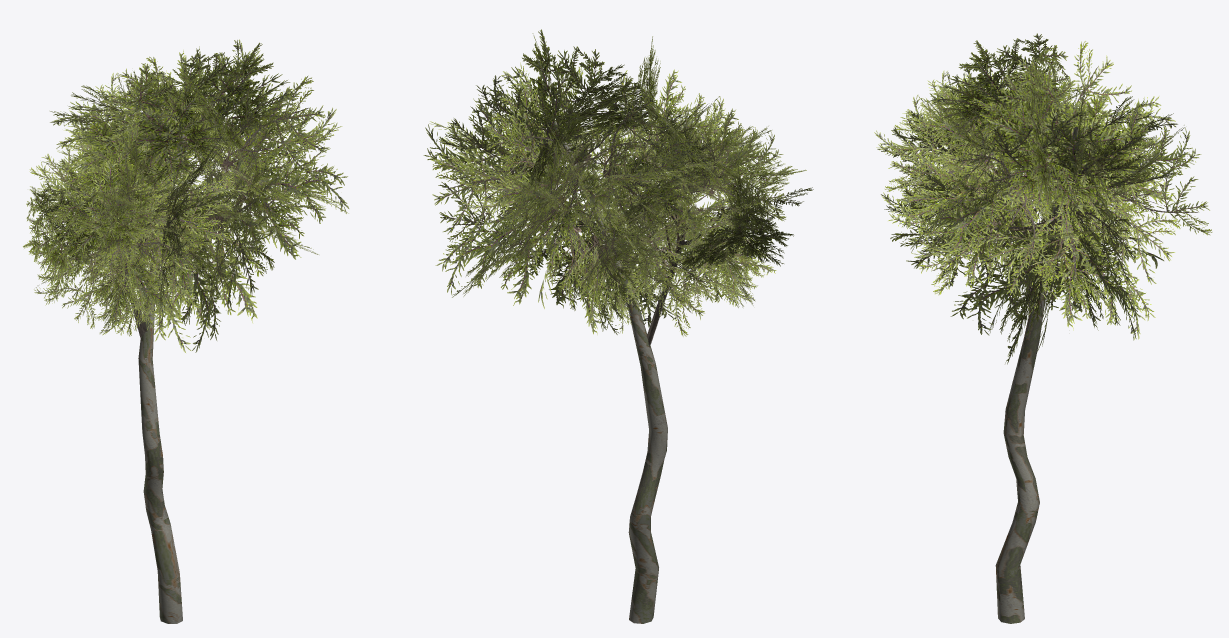
File: Eucalyptus_Sm01.fbx
The picture shows the model from 3 angles, left to right: view 1: azimuth 30°, elevation 25°; view 2: azimuth 150°, elevation 25°; view 3: azimuth 270°, elevation 25°; orthographic projection. The views are drawn at different scales.
Visible parts, largest first — view 1: Eucalyptus_Sm01_Leaves, Eucalyptus_Sm01_Trunk; view 2: Eucalyptus_Sm01_Leaves, Eucalyptus_Sm01_Trunk; view 3: Eucalyptus_Sm01_Leaves, Eucalyptus_Sm01_Trunk.
Boxes of the visible parts, left/top/right/bottom form: Eucalyptus_Sm01_Leaves: left=23, top=39, right=349, bottom=352; Eucalyptus_Sm01_Trunk: left=102, top=92, right=193, bottom=623; Eucalyptus_Sm01_Leaves: left=423, top=29, right=813, bottom=336; Eucalyptus_Sm01_Trunk: left=552, top=120, right=712, bottom=623; Eucalyptus_Sm01_Leaves: left=874, top=33, right=1212, bottom=364; Eucalyptus_Sm01_Trunk: left=995, top=127, right=1078, bottom=623.
Size of the model in its own units: 384 by 309 by 566.
Materials: 2 (2 with a texture image).
